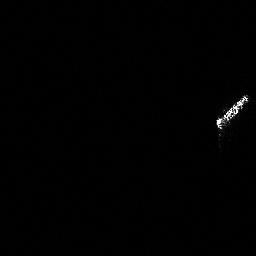ship: (212, 90, 253, 132)
